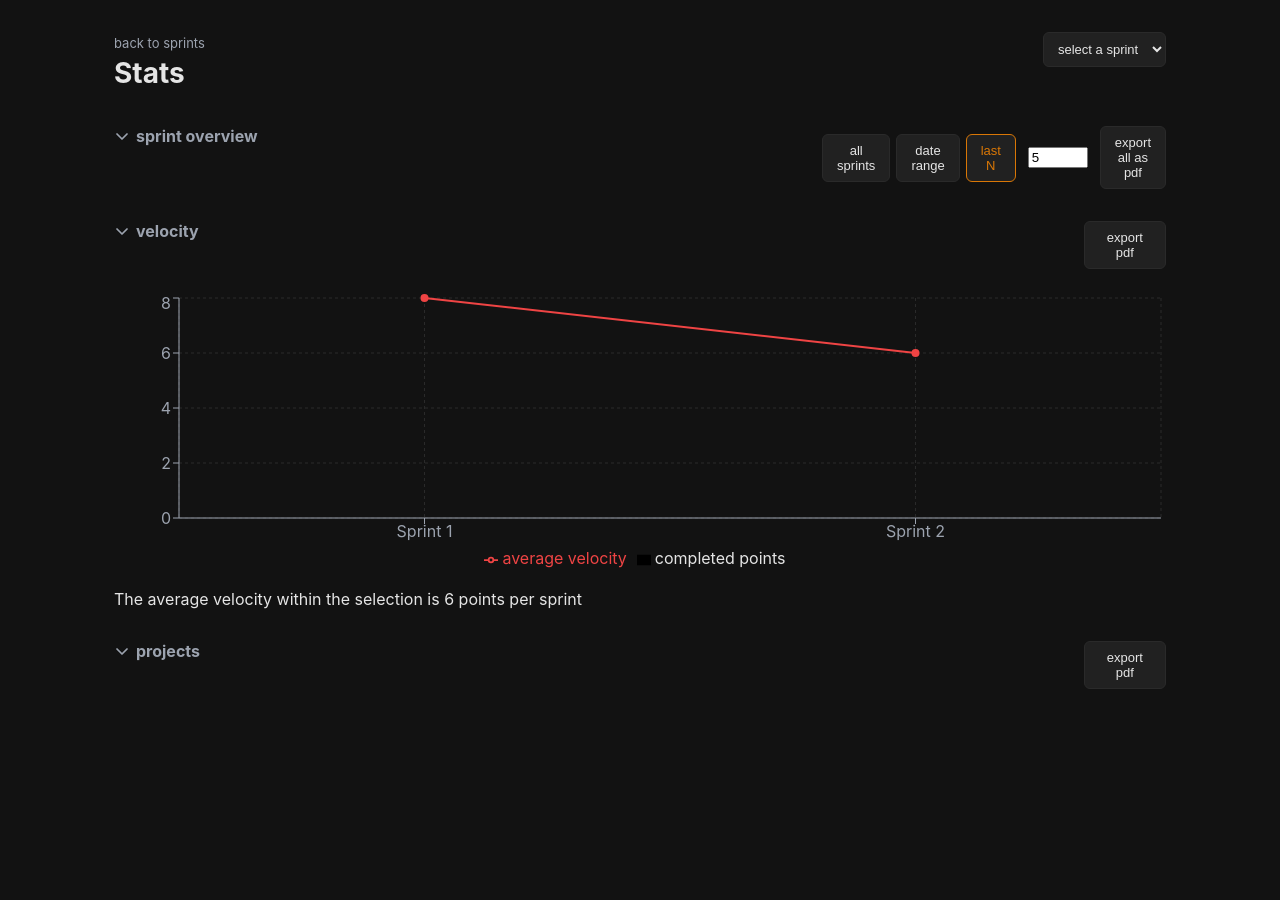
stats page › loads stats once a sprint is selected
Select "Sprint 1" in the dropdown at point(1104, 50), box x1=1043 y1=32 x2=1166 y2=67
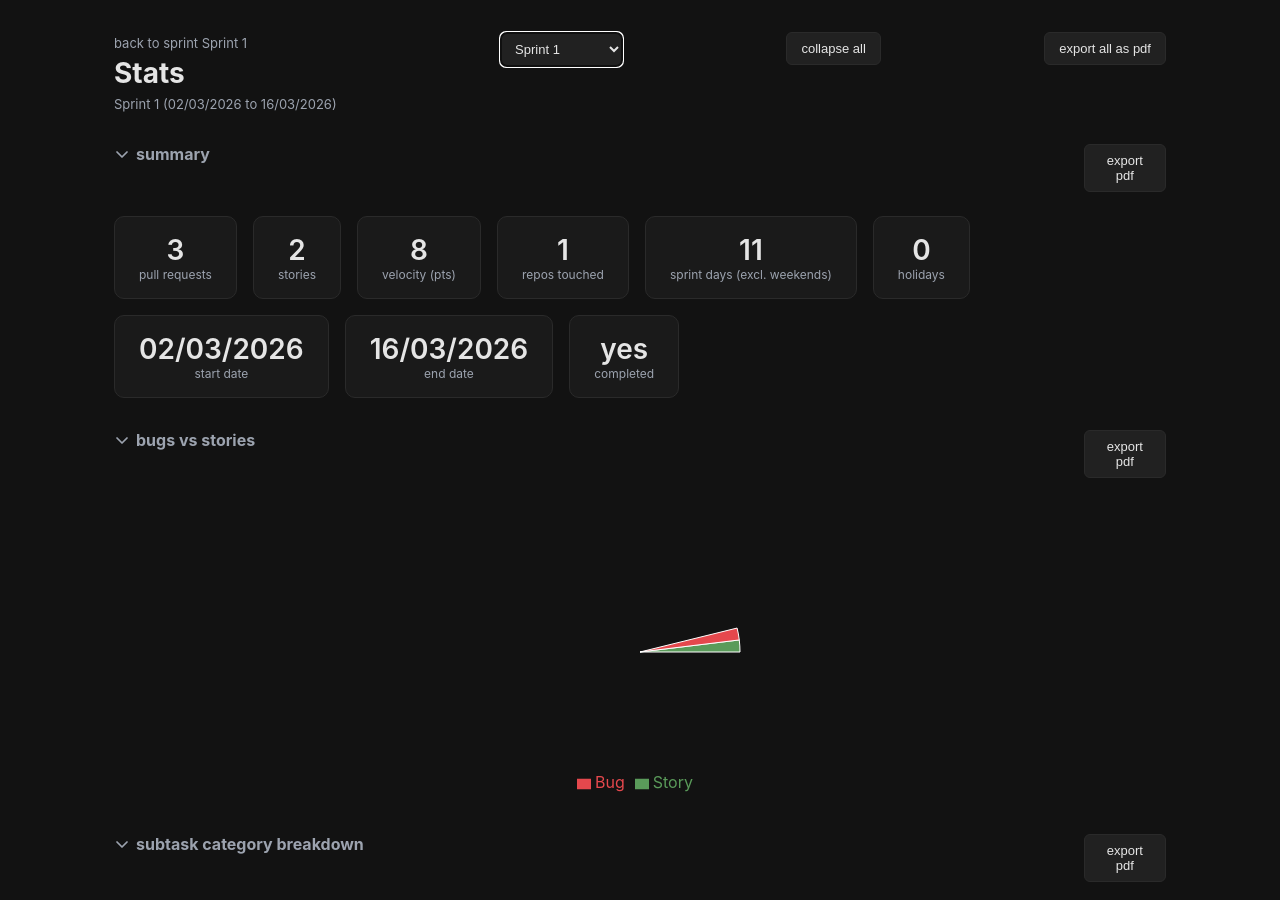
Result: the text "3" is shown at x1=166 y1=233 x2=184 y2=267
